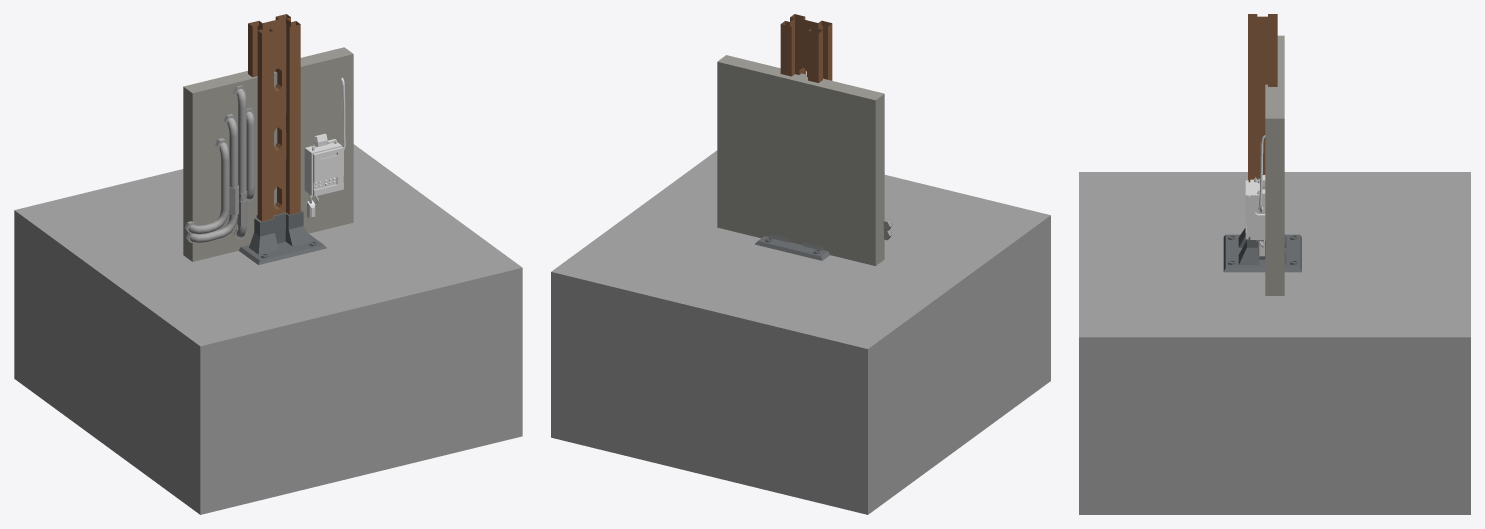
Rendered from Bladedancer_EnvironmentAssets.fbx.
The picture shows the model from 3 angles, left to right: view 1: azimuth 30°, elevation 25°; view 2: azimuth 150°, elevation 25°; view 3: azimuth 270°, elevation 25°; orthographic projection. The views are drawn at different scales.
Parts seen in each view (by area): view 1: Floor, Wall, Pillar, Combine_Pilar_Ground, Power_Box, pipe_curved_4, pipe_long, pipe_curved_2, pipe_small; view 2: Floor, Wall, Pillar, Combine_Pilar_Ground; view 3: Floor, Wall, Pillar, Combine_Pilar_Ground, Power_Box.
Boxes of the visible parts, x1,y1,x2,y2 form: Floor: (14,144,522,514); Wall: (183,47,353,261); Pillar: (248,14,300,221); Combine_Pilar_Ground: (238,210,326,264); Power_Box: (304,78,345,218); pipe_curved_4: (186,114,238,242); pipe_long: (233,85,247,240); pipe_curved_2: (185,138,229,234); pipe_small: (246,108,254,202); Floor: (551,150,1050,514); Wall: (717,55,884,265); Pillar: (780,14,832,82); Combine_Pilar_Ground: (755,234,829,260); Floor: (1079,172,1470,514); Wall: (1265,35,1284,295); Pillar: (1248,14,1277,182); Combine_Pilar_Ground: (1223,227,1301,272); Power_Box: (1245,135,1265,256).
Bounding box in the file's own units: 2 × 2.35 × 2.
